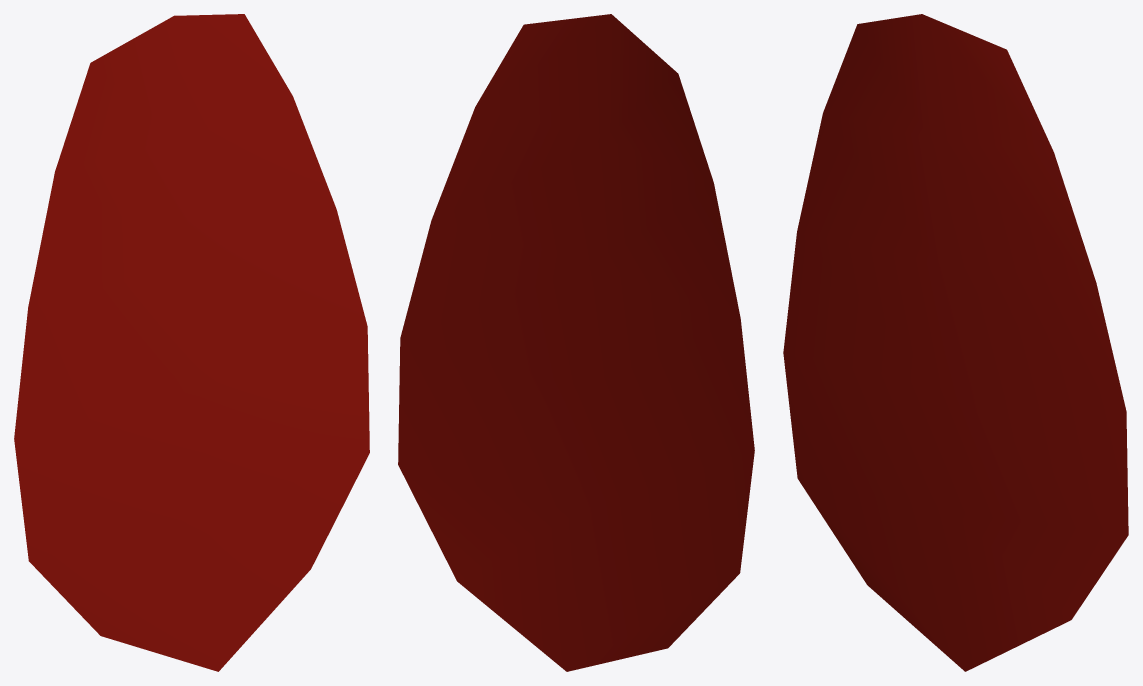
The model's file is ara_feather_flight_tertiary_009.obj.
3 renders of one model, left to right at view 1: azimuth 30°, elevation 25°; view 2: azimuth 150°, elevation 25°; view 3: azimuth 330°, elevation 25°, orthographic. The views are drawn at different scales.
Visible parts, largest first — view 1: feather_flight_tertiary_009; view 2: feather_flight_tertiary_009; view 3: feather_flight_tertiary_009.
Boxes of the visible parts, x1,y1,x2,y2 form: feather_flight_tertiary_009: (14,14,369,671); feather_flight_tertiary_009: (398,14,754,671); feather_flight_tertiary_009: (783,14,1128,671).
Bounding box in the file's own units: 0.0176 × 0.0315 × 0.000724.
